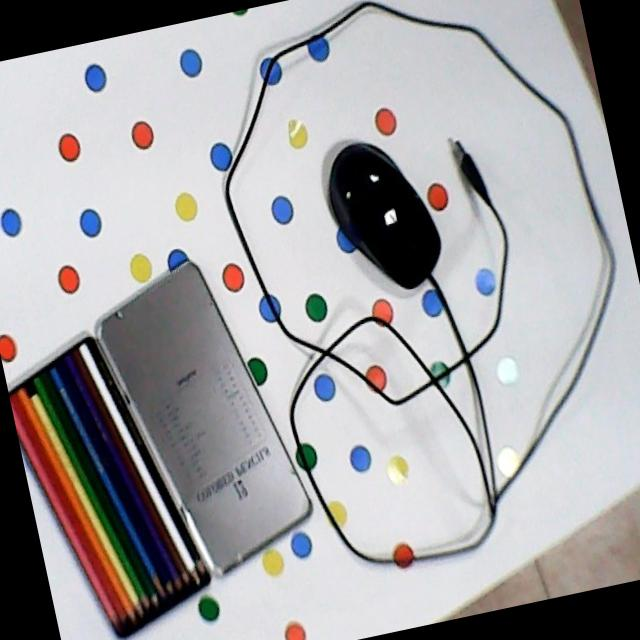color: (8, 324, 223, 640)
mouse: (322, 135, 449, 298)
